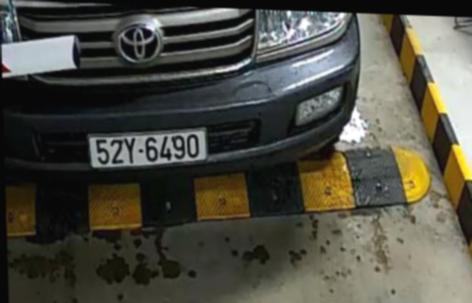License_Plate: (84, 117, 214, 170)
